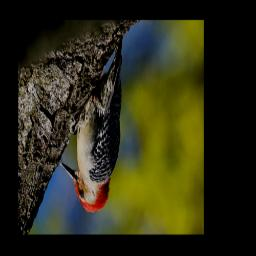Woodpecker: (58, 39, 122, 213)
